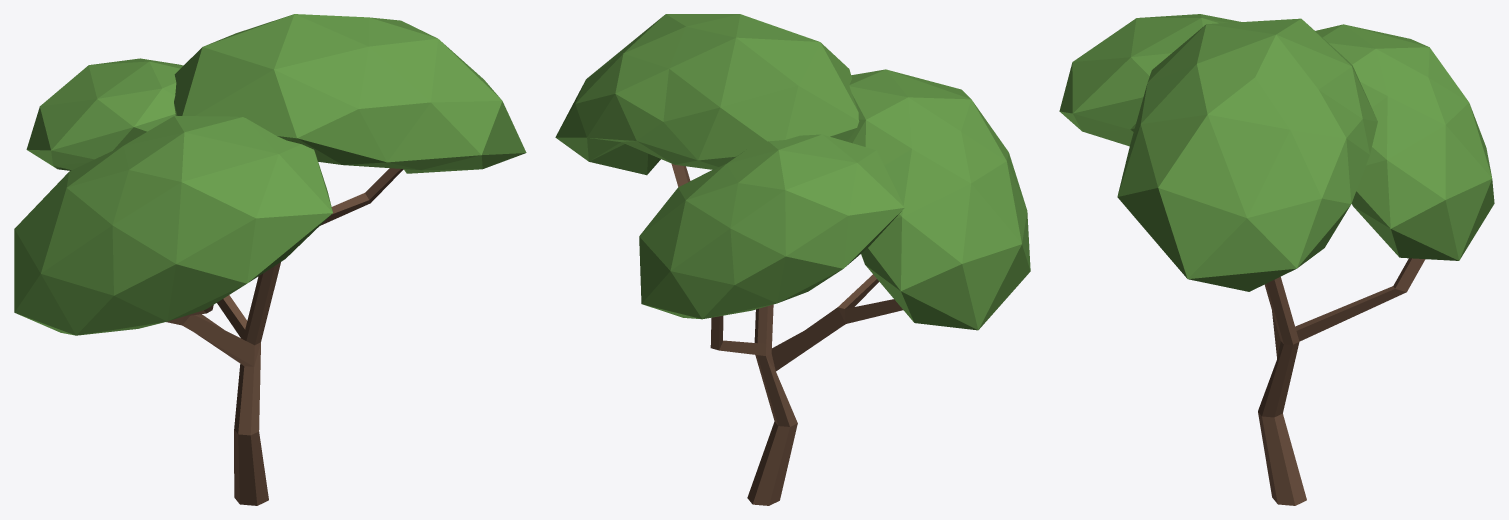
The model's file is tree5.fbx.
The picture shows the model from 3 angles, left to right: view 1: azimuth 30°, elevation 25°; view 2: azimuth 150°, elevation 25°; view 3: azimuth 270°, elevation 25°; orthographic projection. The views are drawn at different scales.
Visible parts, largest first — view 1: tree5; view 2: tree5; view 3: tree5.
Part boxes in pixels (x1,y1,x2,y2): tree5: (14, 14, 526, 505); tree5: (555, 14, 1030, 505); tree5: (1059, 14, 1494, 505).
Size of the model in its own units: 444 by 437 by 357.
